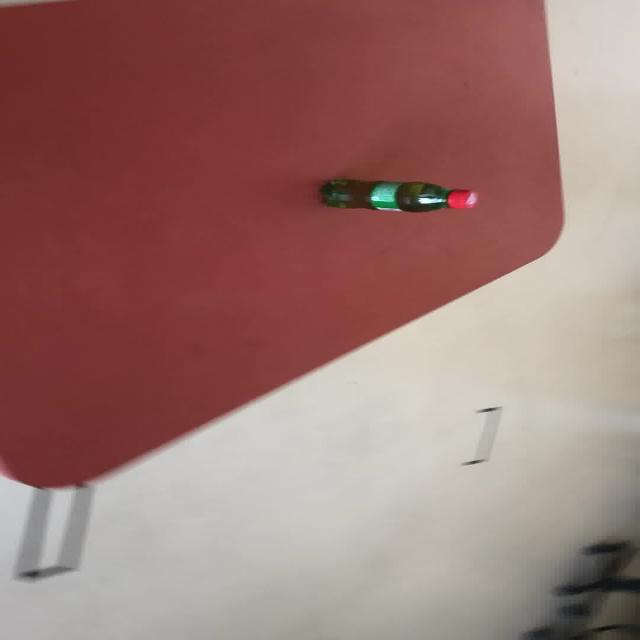guarana: (316, 176, 478, 213)
